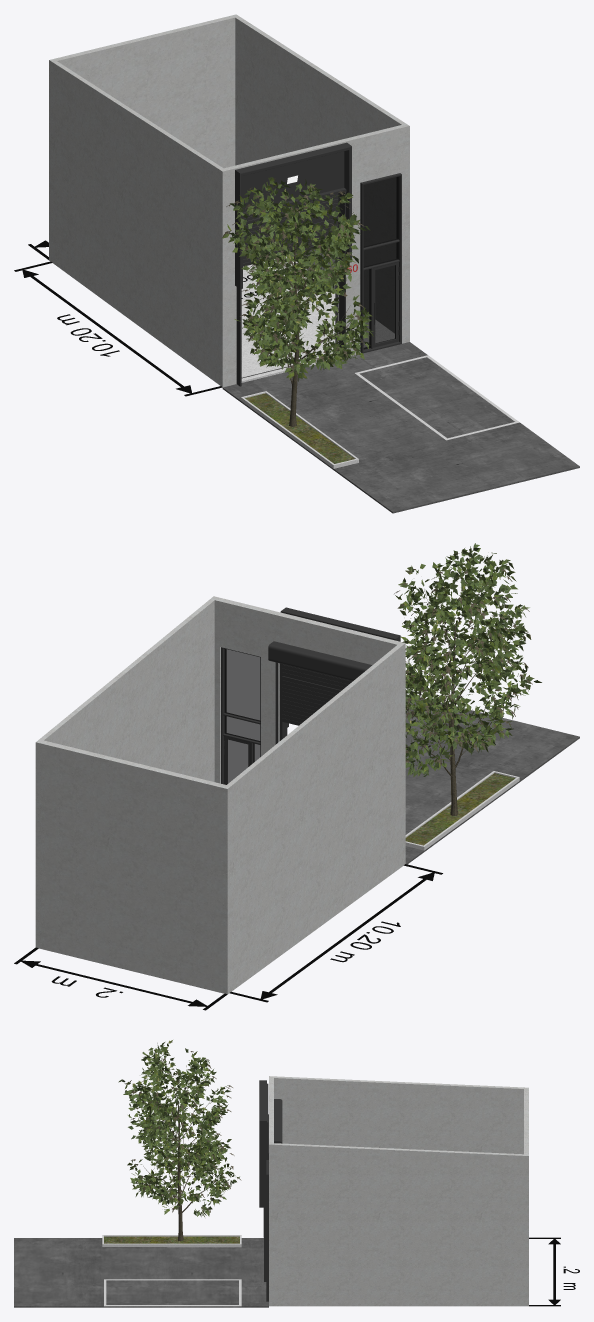
Rendered from Without_Mezzanine.glb.
The picture shows the model from 3 angles, top to bottom: view 1: azimuth 30°, elevation 25°; view 2: azimuth 150°, elevation 25°; view 3: azimuth 270°, elevation 25°; orthographic projection. The views are drawn at different scales.
Visible parts, largest first — view 1: Object1746170105, Box2131647076, Object1834019083, Object1834019082, DIM_Line_001; view 2: Object1746170105, Object1834019083, Box2131647076, DIM_Line_001, DIM_Line_002; view 3: Object1746170105, Box2131647076, Object1834019083, Object1834019082, DIM_Line_002.
Part boxes in pixels (x1,y1,x2,y2): Object1746170105: [49, 14, 409, 387]; Box2131647076: [222, 342, 579, 513]; Object1834019083: [222, 177, 373, 468]; Object1834019082: [354, 355, 519, 440]; DIM_Line_001: [14, 261, 222, 396]; Object1746170105: [35, 596, 405, 994]; Object1834019083: [394, 543, 541, 850]; Box2131647076: [405, 694, 579, 864]; DIM_Line_001: [229, 864, 442, 1002]; DIM_Line_002: [14, 947, 227, 1010]; Object1746170105: [259, 1076, 528, 1306]; Box2131647076: [14, 1238, 268, 1307]; Object1834019083: [102, 1040, 241, 1247]; Object1834019082: [104, 1279, 241, 1306]; DIM_Line_002: [529, 1237, 560, 1306].
Bounding box in the file's own units: 8.34 × 8.28 × 22.19.
Materials: 17 (8 with a texture image).
